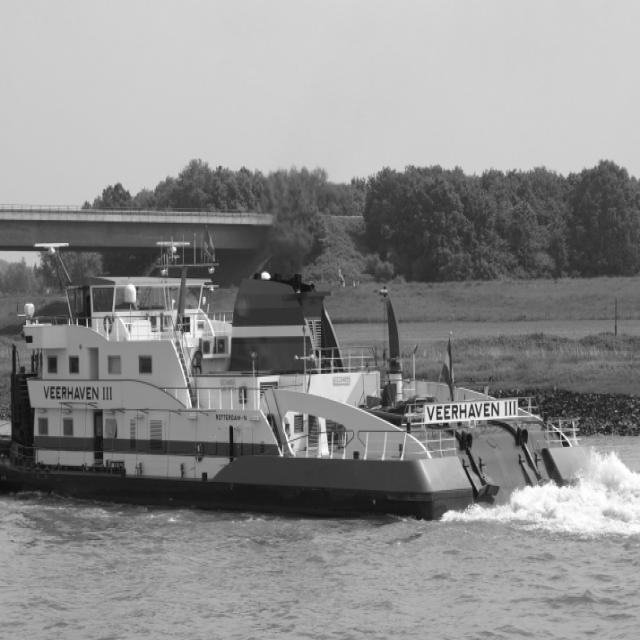tugboat: (1, 225, 608, 534)
